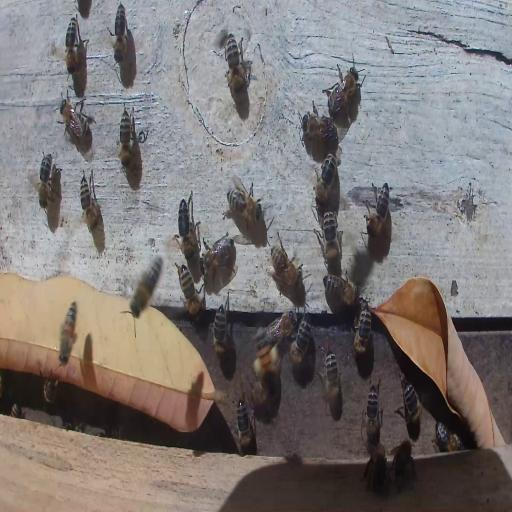bee: (252, 326, 281, 402), (326, 61, 363, 120), (129, 255, 162, 318), (297, 104, 337, 148), (223, 36, 251, 98), (269, 233, 299, 289), (56, 298, 80, 366), (176, 191, 199, 260), (319, 348, 342, 415), (59, 94, 91, 142), (365, 180, 391, 236), (226, 182, 262, 222), (176, 264, 201, 320), (79, 170, 100, 235), (317, 210, 341, 266), (314, 152, 338, 206), (366, 442, 389, 498), (350, 297, 372, 355), (400, 380, 422, 434), (392, 437, 414, 489), (234, 398, 254, 455), (364, 381, 382, 443), (38, 152, 56, 213), (324, 274, 357, 307), (289, 319, 312, 365), (261, 313, 296, 343), (111, 2, 127, 63), (201, 242, 232, 272), (434, 424, 463, 454), (212, 302, 228, 355), (119, 106, 132, 170), (65, 15, 78, 74), (276, 314, 294, 340), (43, 377, 58, 406), (10, 402, 24, 417)
